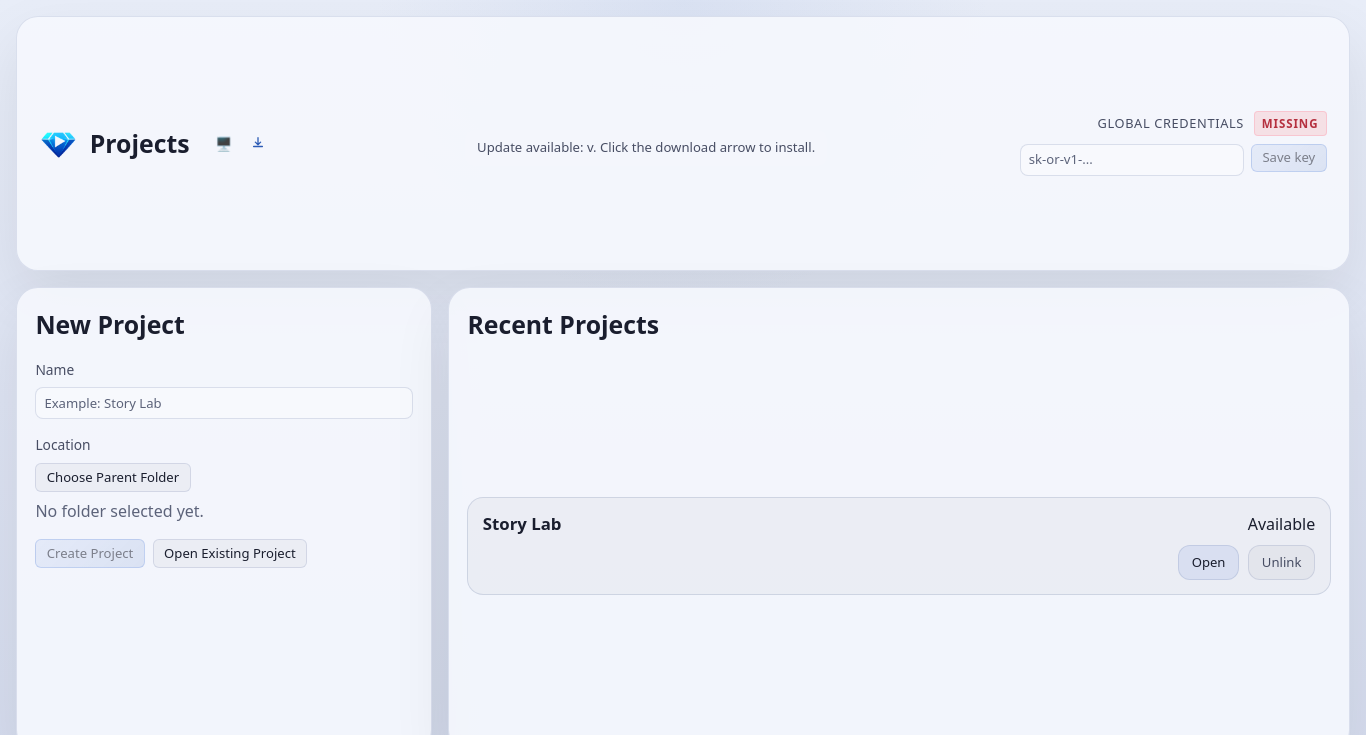
Test: App › registers an existing prompt template as a prompt block from the sidebar
Click the button "Open Existing Project": (230, 553) [153,539,307,568]
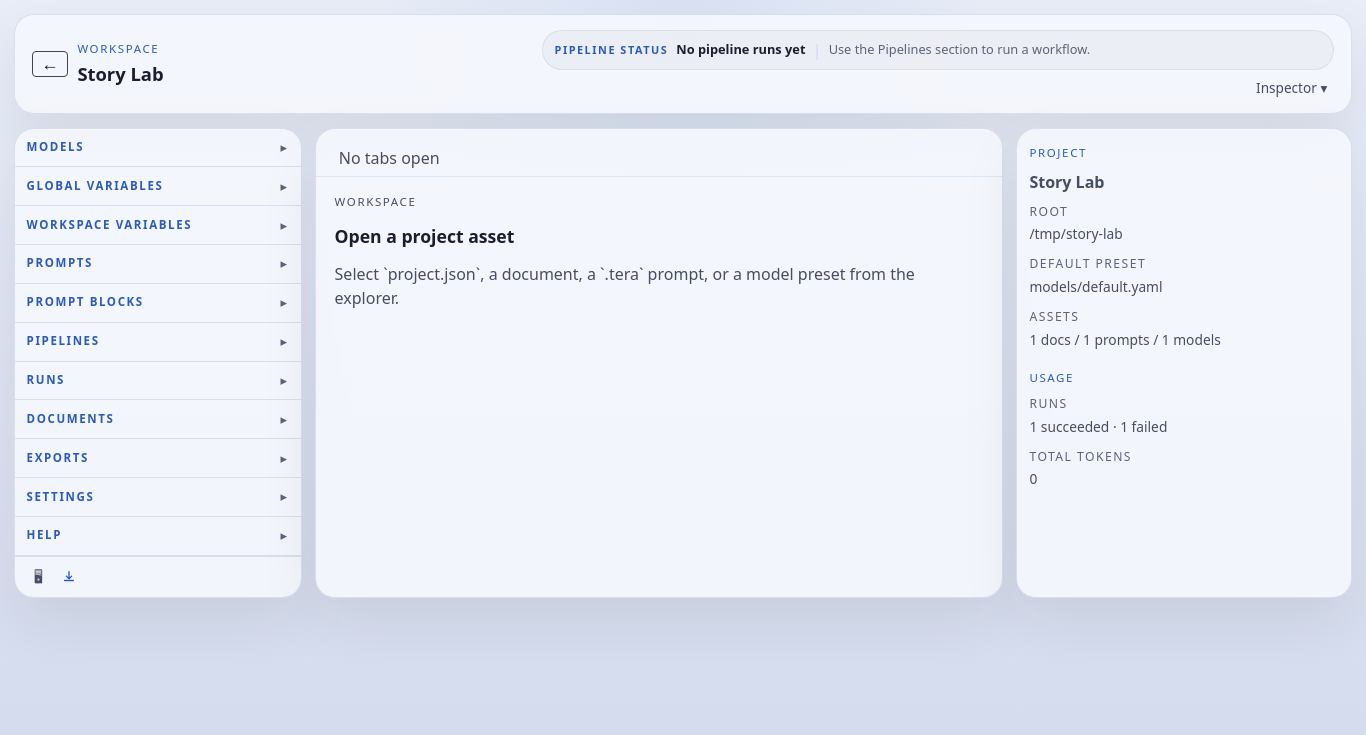
Check: the 1st heading "Story Lab" is shown, box [77,60,164,88]
Check: the button "Prompt Blocks ▸" is shown
Click the button "Prompt Blocks ▸": (85, 302) [15,284,301,322]
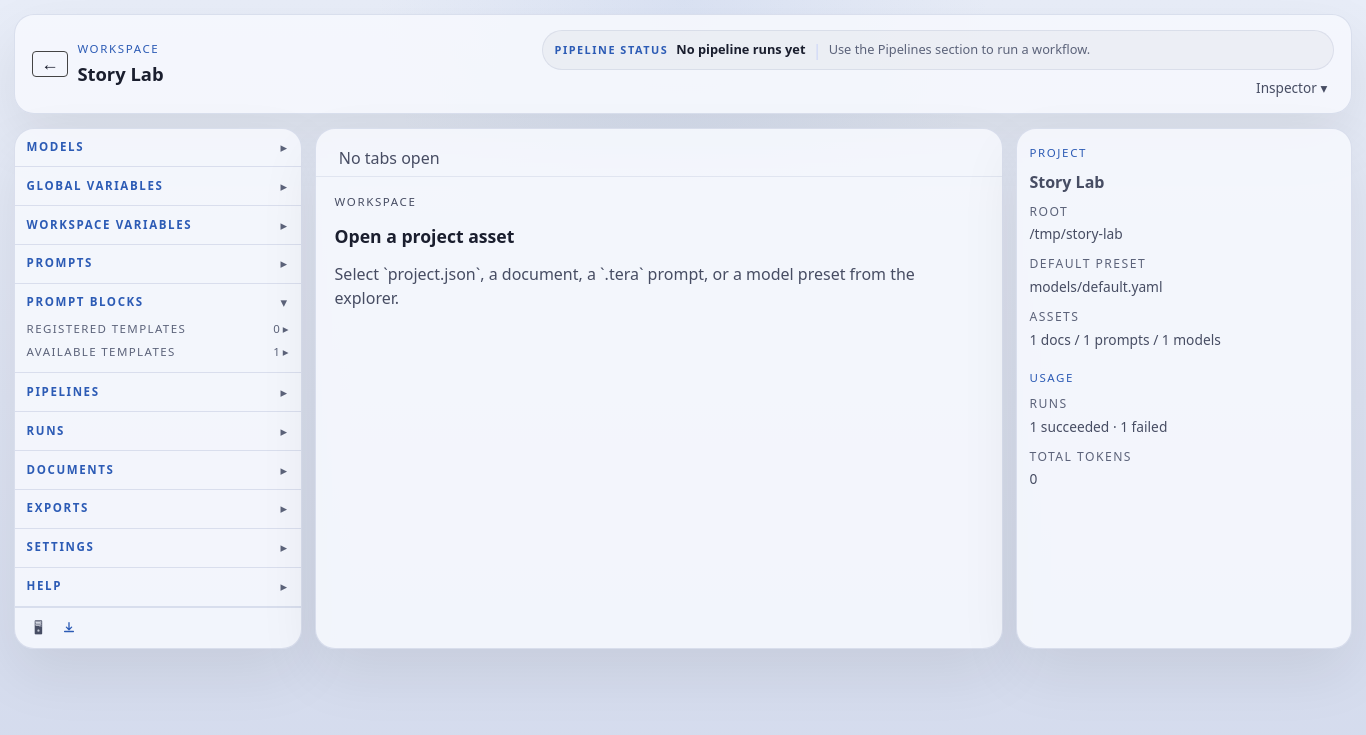
Click the button "Available Templates 1 ▸": (158, 353) [27,346,289,360]
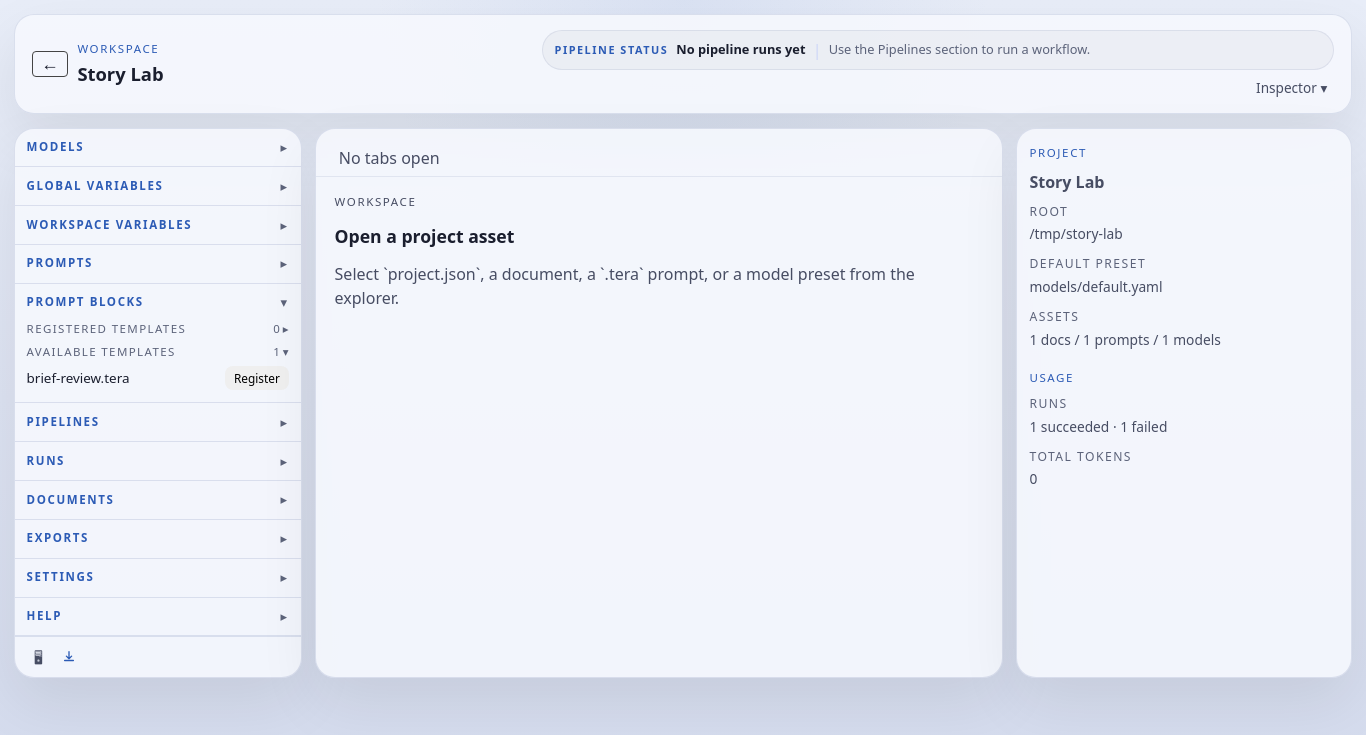
Click the button "Register": (257, 378) [225,366,289,390]
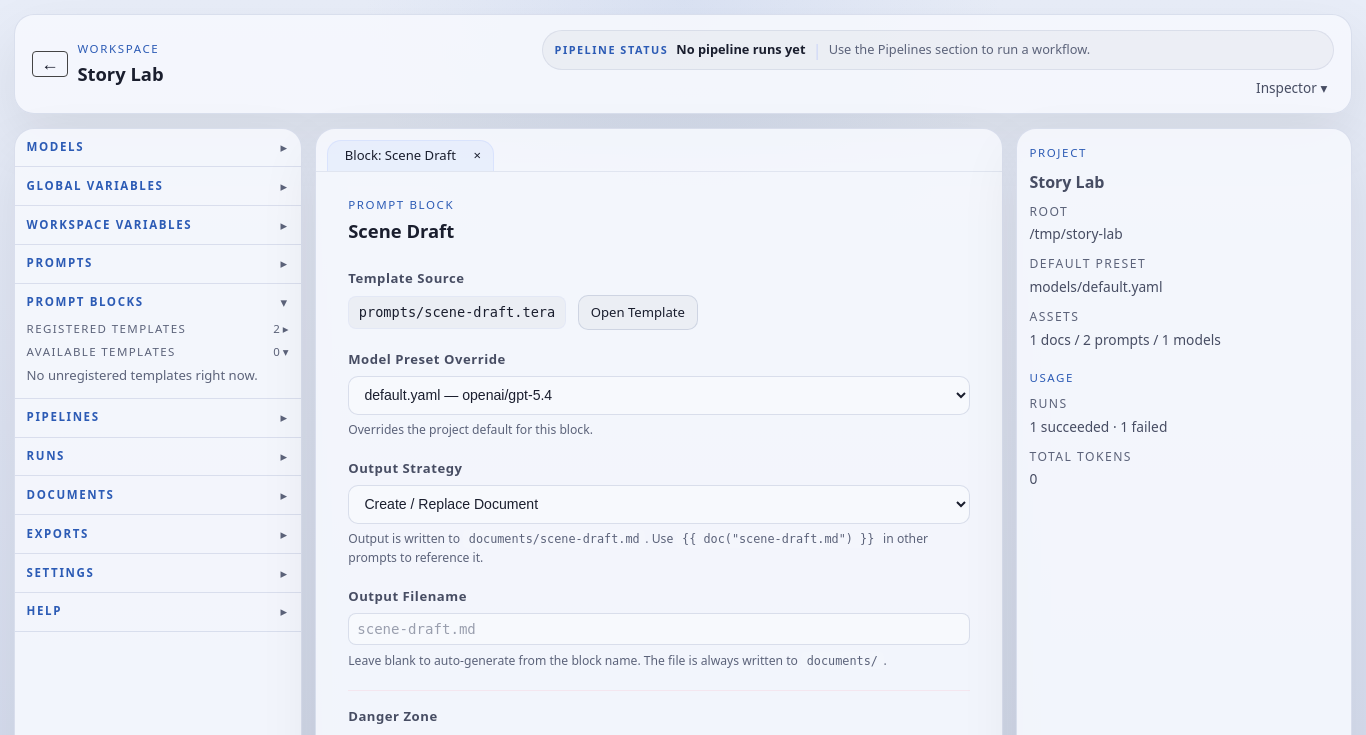
Check: the heading "Scene Draft" is shown, box [348,218,454,243]
